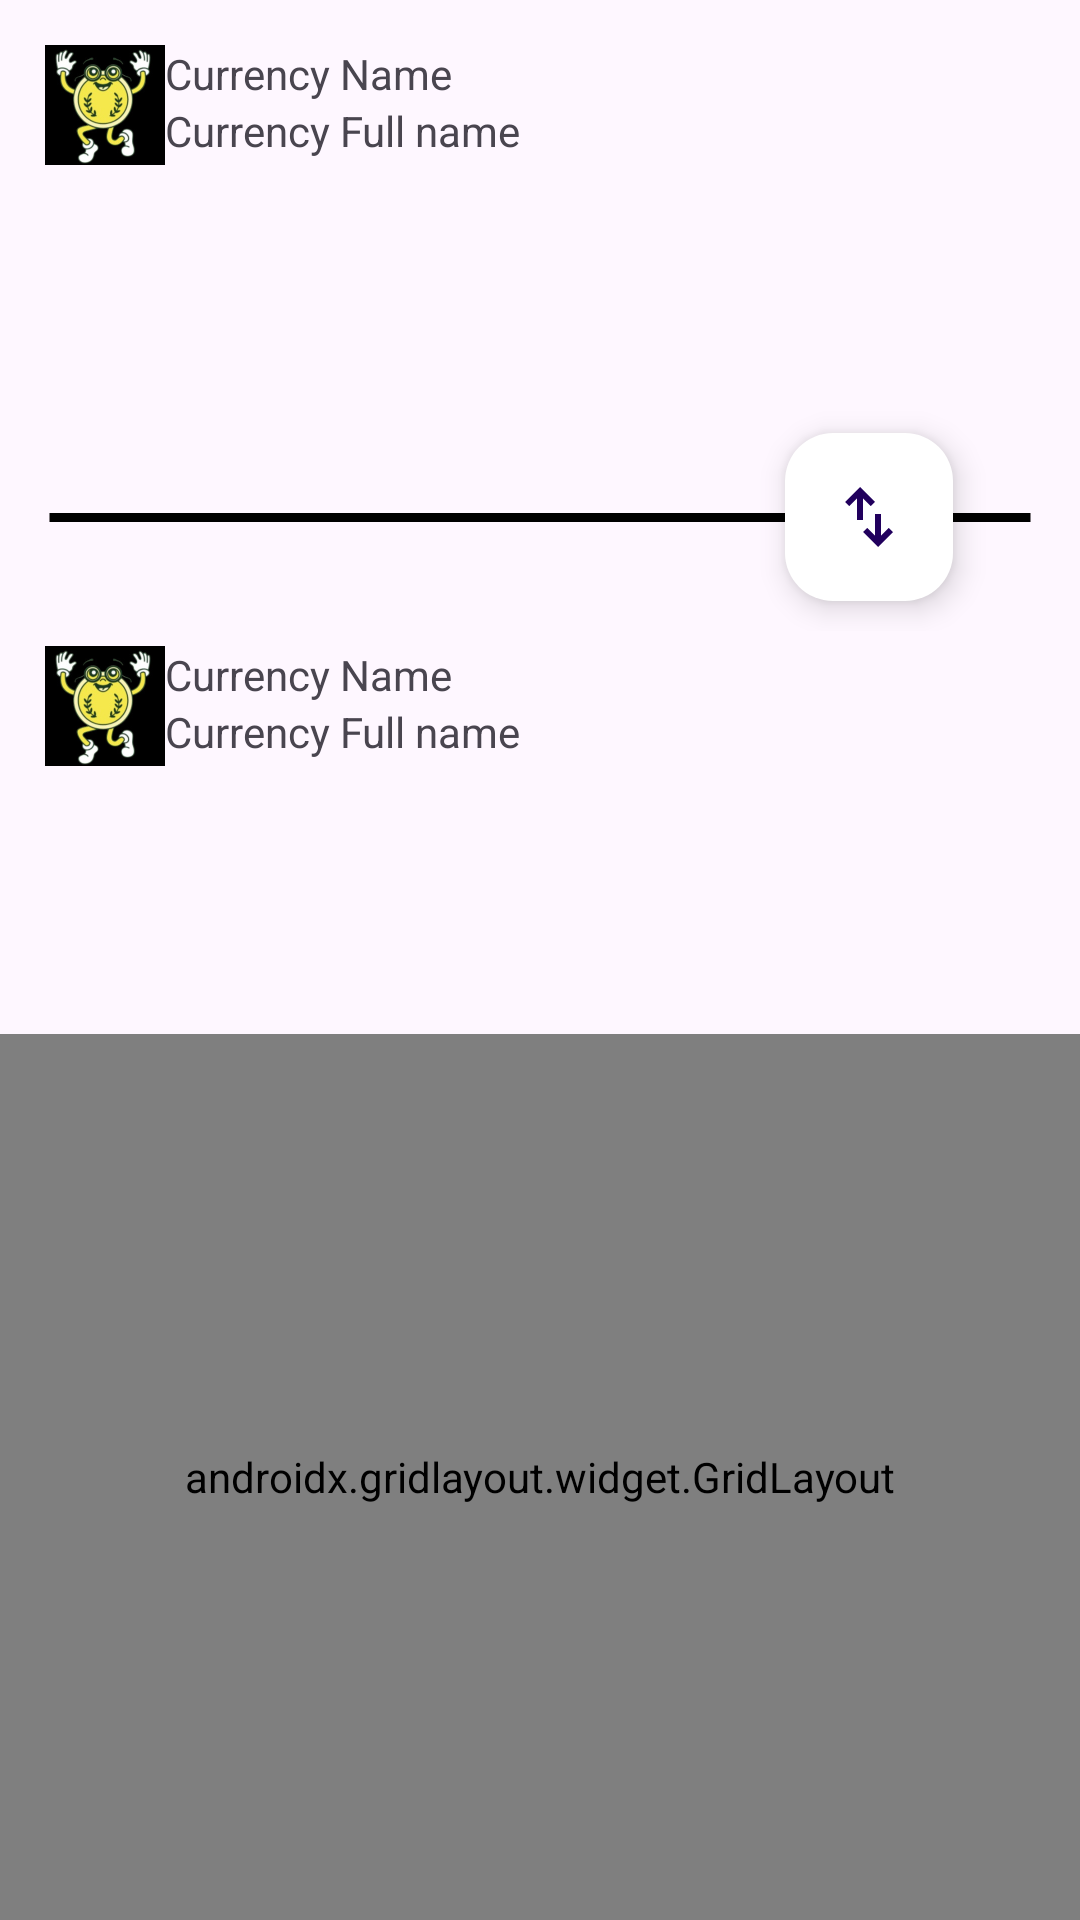

Named icons in this screenshot (1080*1920) and their bounding boxes, detection(x1, y1, x2, y2):
swap: detection(785, 433, 953, 601)
